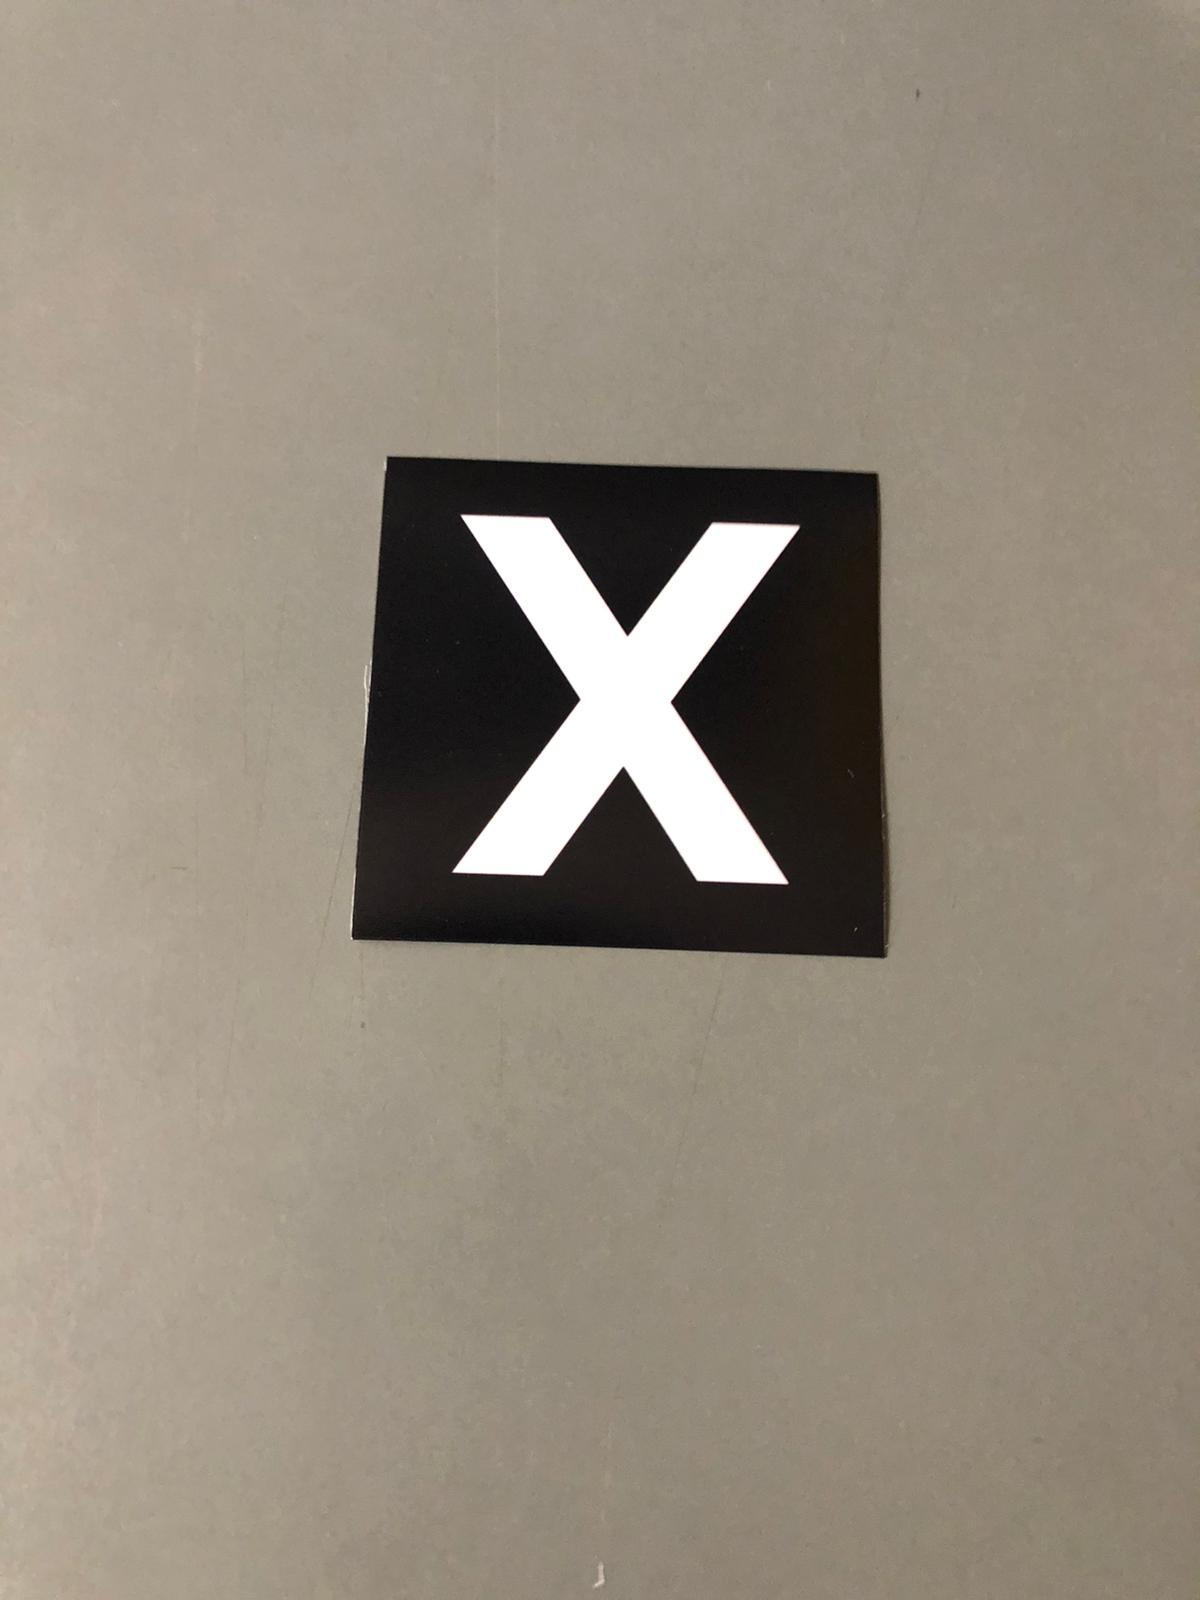X: (386, 477, 858, 936)
